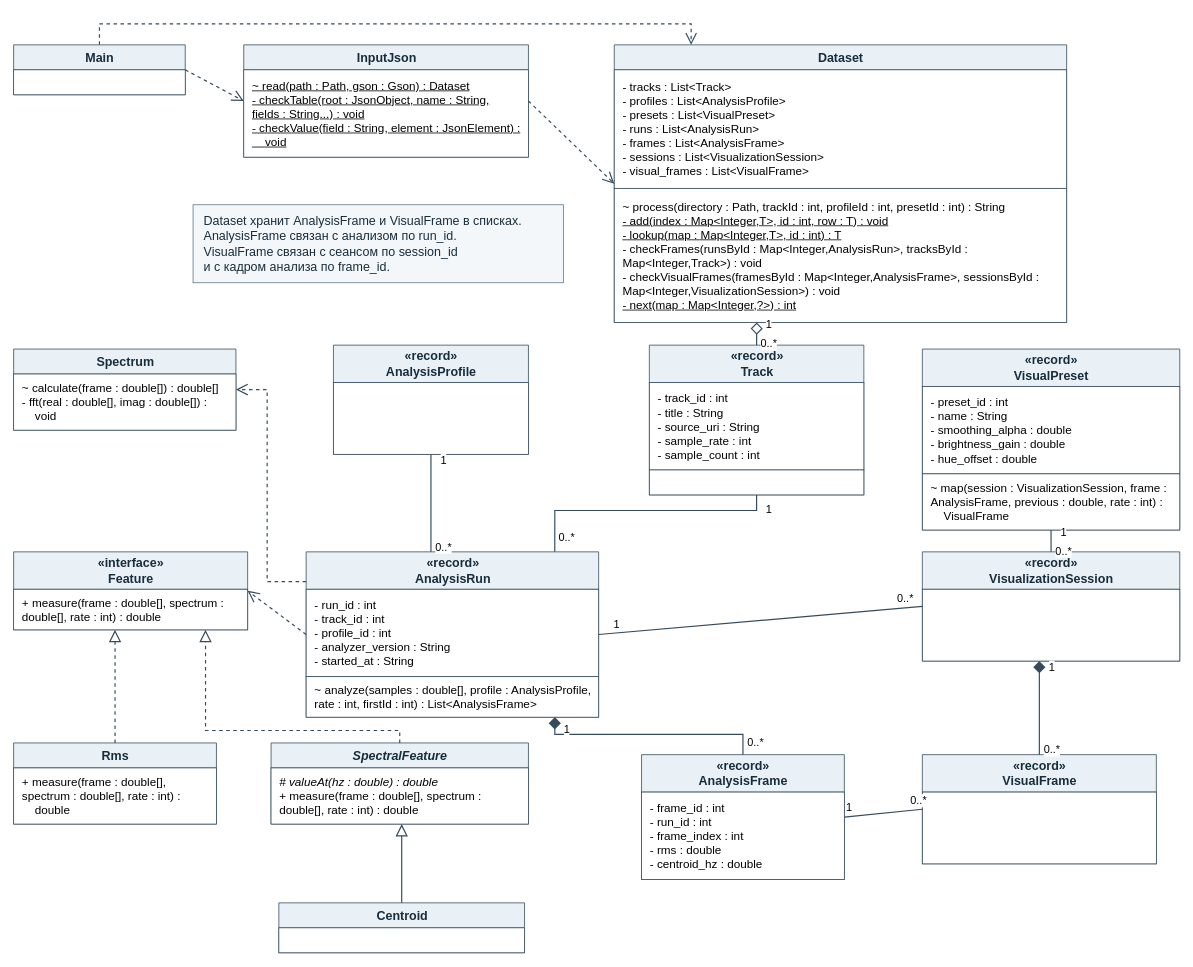
The diagram is 1193 pixels wide and 967 high, and some of its shapes have lost their labels. Each missing label, with the centre of its shape:
# valueAt(hz : double) : double: pixel 401 940
+ main(args : String[]) : void: pixel 99 82
- profile_id : int - name : String - frame_size : int - hop_size : int: pixel 430 418
- session_id : int - frame_id : int - brightness : double - hue : double: pixel 1039 827
- session_id : int - run_id : int - preset_id : int - started_at : String: pixel 1051 625
~ read(directory : Path) : double[]: pixel 756 482
